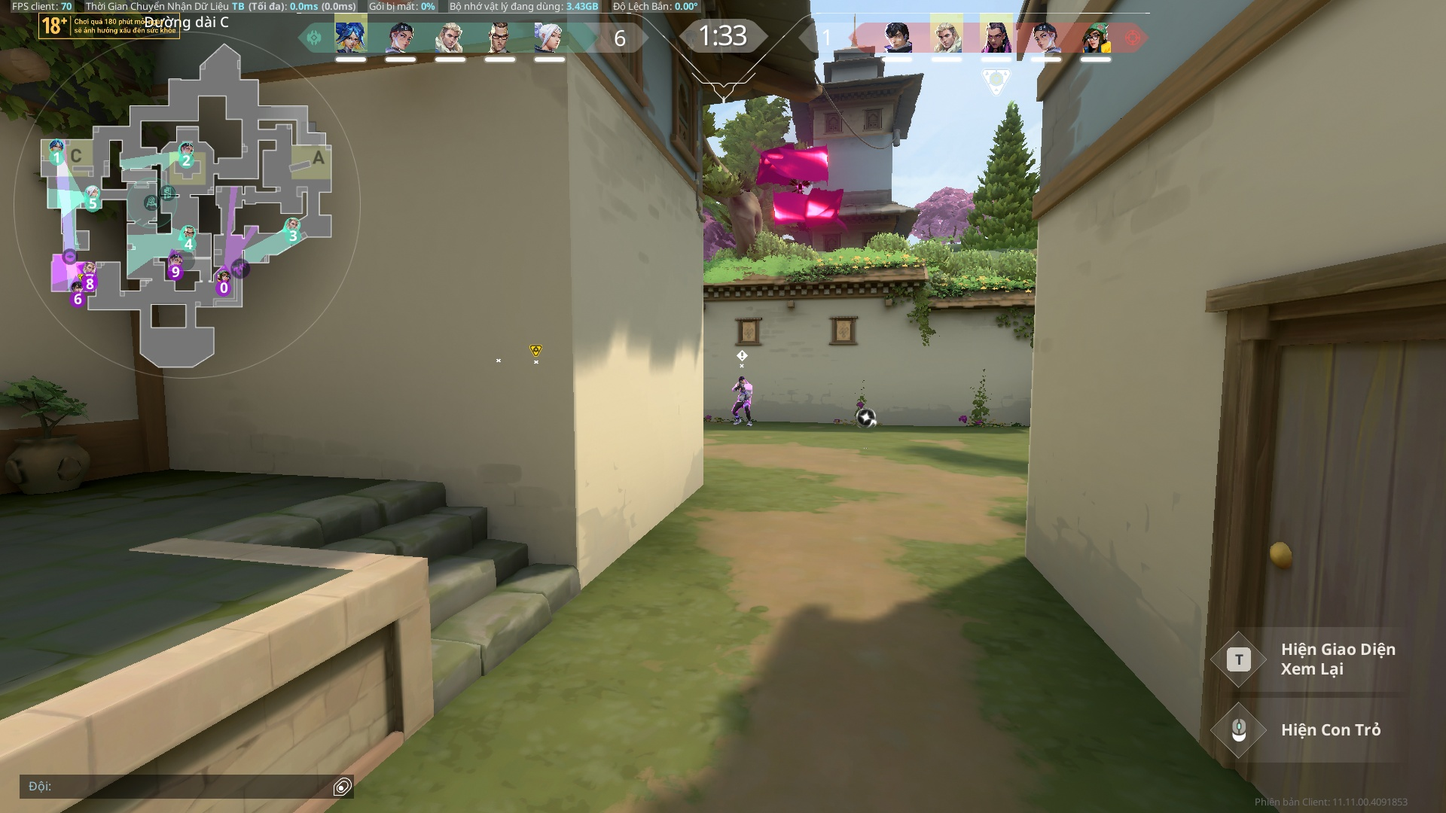body: (735, 381, 754, 397)
head: (738, 375, 746, 383)
